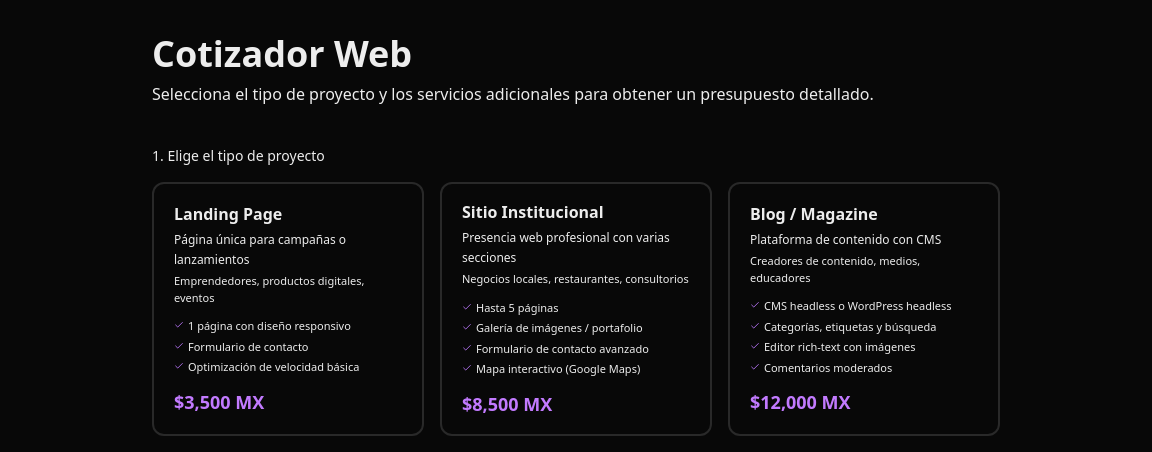
Test: Cotizar Page › shows price after selecting a project
This screenshot has width=1152, height=452.
Click the text "Landing Page": click(228, 214) 174,203 -> 282,225
(page scrolled)
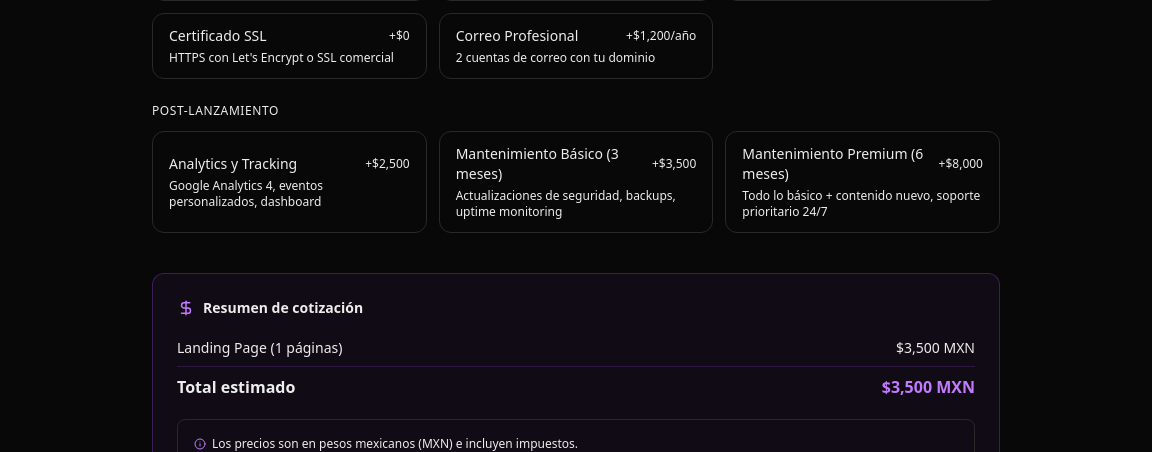
Expected: the text "$3,500 MXN" in the row of "páginas)" is shown, 896,338 -> 975,358
